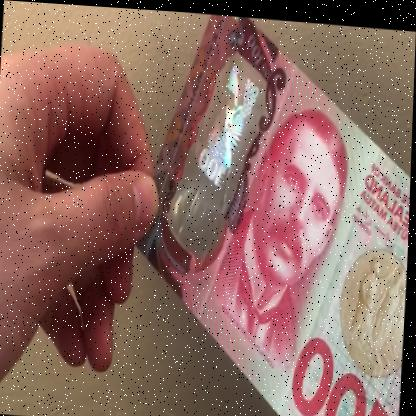100F: (182, 57, 267, 249)
